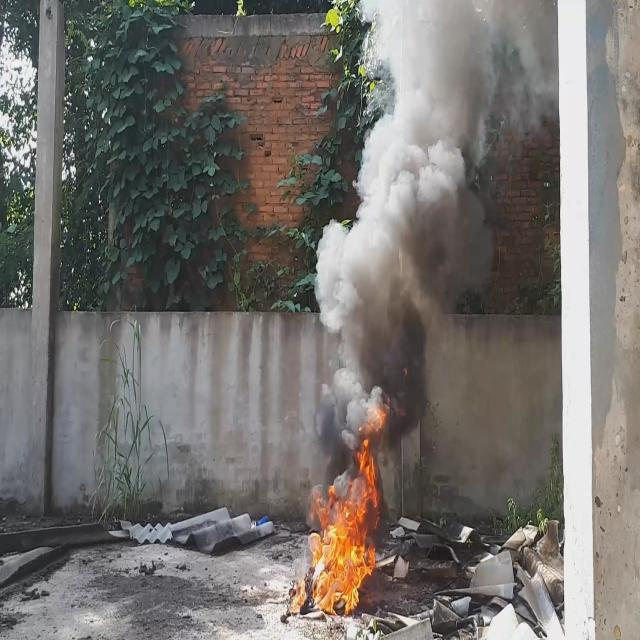Fire: (291, 449, 381, 619)
Smoke: (314, 0, 558, 457)
